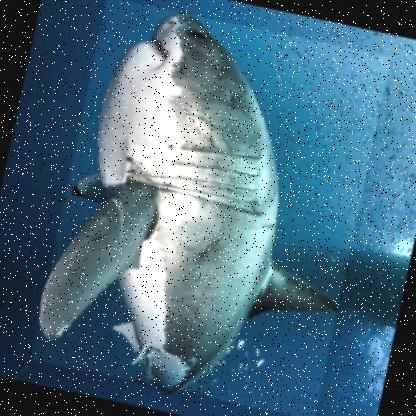white-shark: (28, 0, 391, 415)
